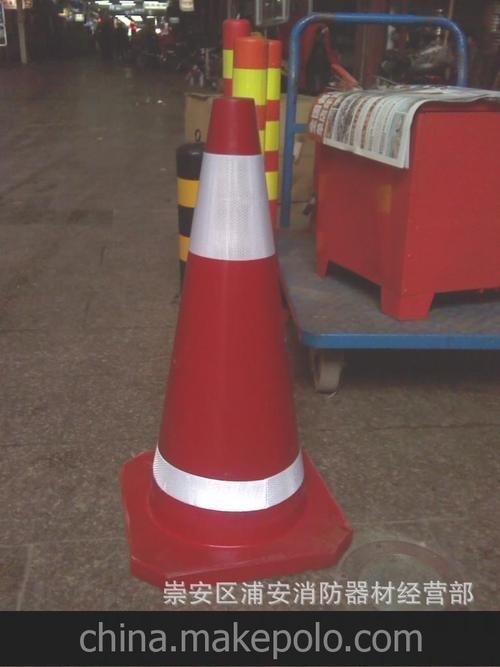cone_barrel: (138, 103, 335, 557)
